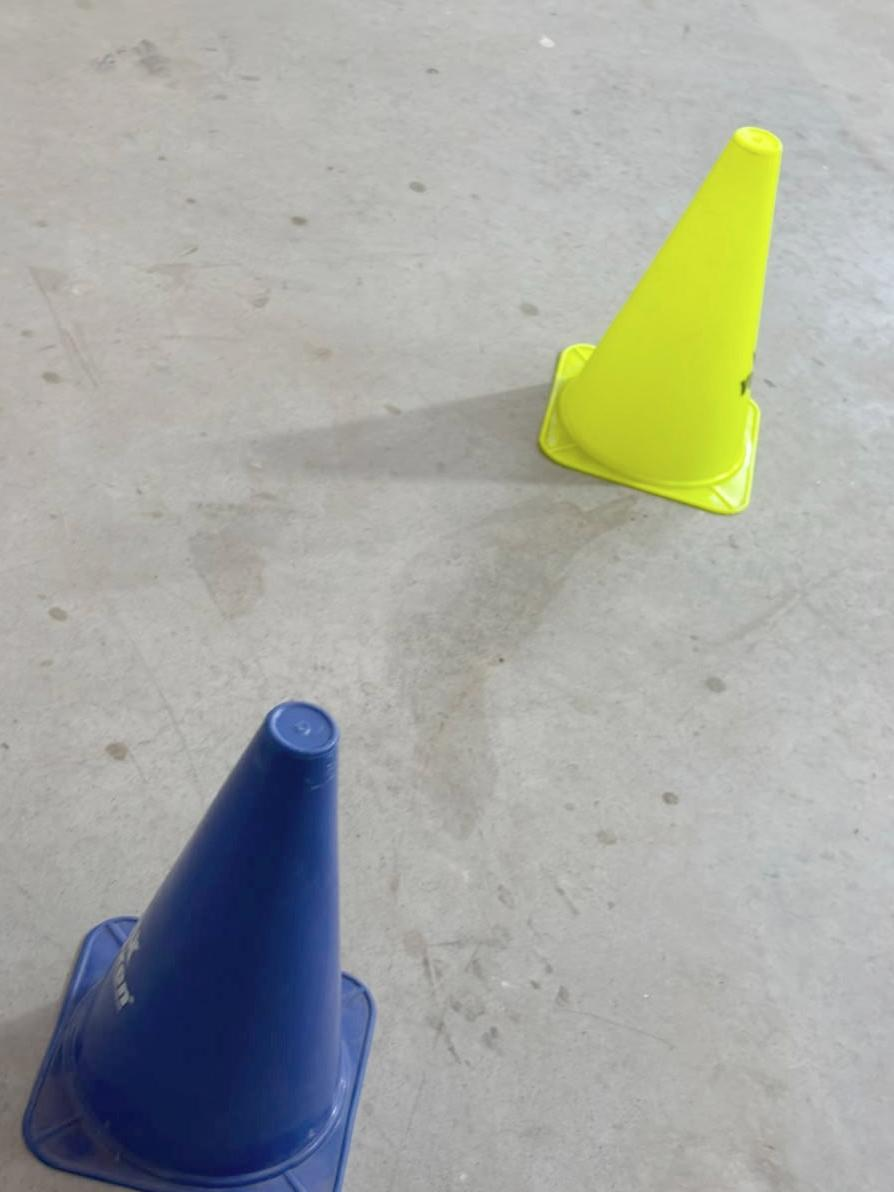0 cone: (24, 702, 374, 1192), (539, 127, 781, 513)
